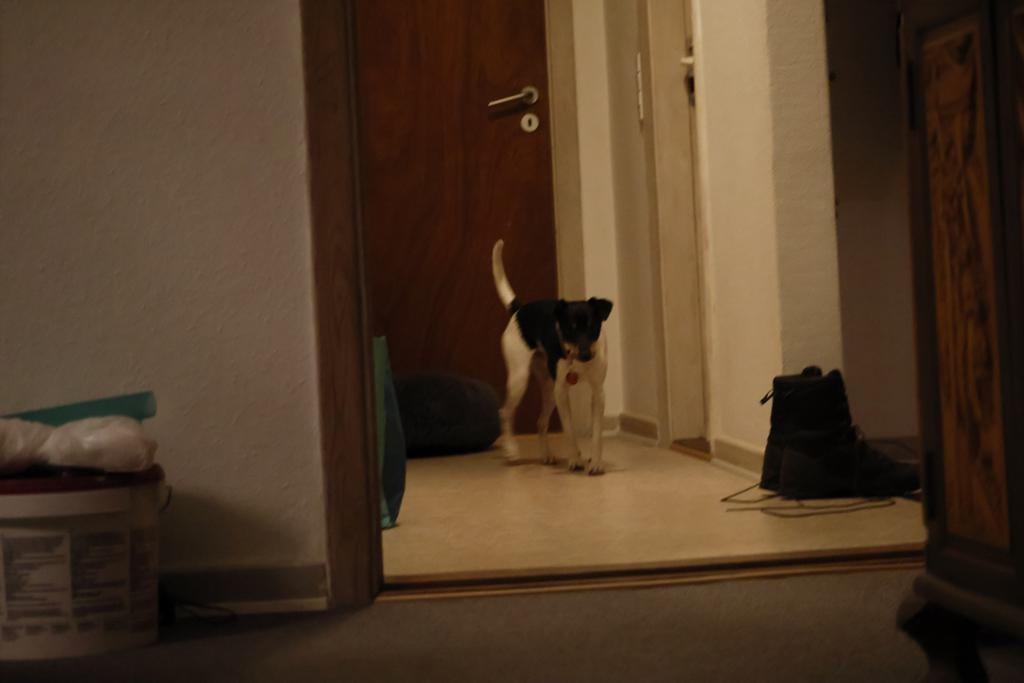Dog: (476, 229, 622, 481)
